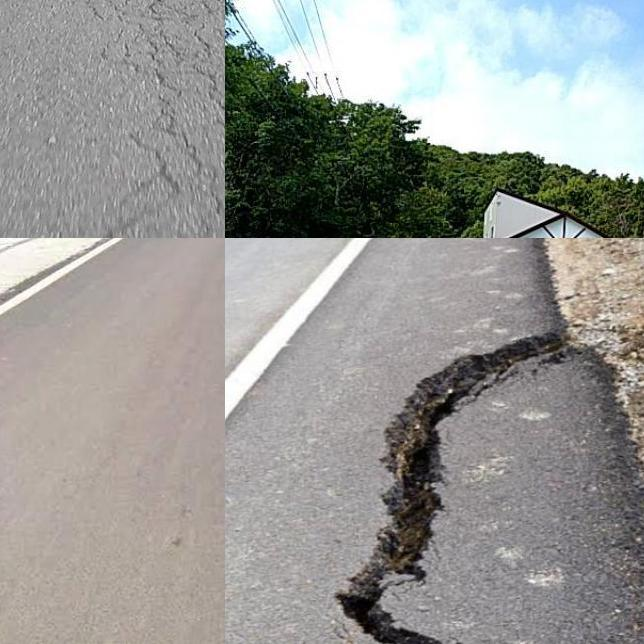Pinggir: (333, 324, 644, 644)
Retak Buaya: (103, 0, 225, 211)
